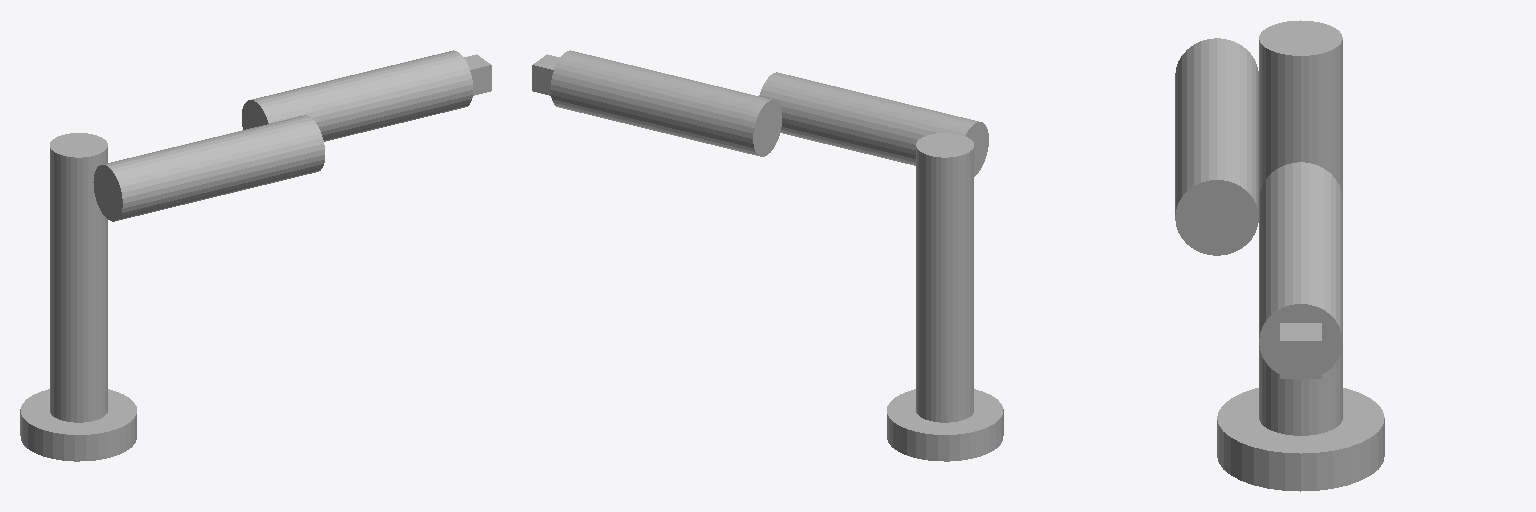
The robot description file, URDF, robot "example":
<?xml version="1.0"?>
<robot name="example">
  <link name="world"/>

  <link name="base_link">
    <visual>
      <geometry>
        <cylinder length="0.05" radius="0.1"/>
      </geometry>
      <material name="silver">
        <color rgba="0.75 0.75 0.75 1"/>
      </material>
      <origin rpy="0 0 0" xyz="0 0 0.025"/>
    </visual>
    <collision>
      <geometry>
        <cylinder length="0.05" radius="0.1"/>
      </geometry>
      <origin rpy="0 0 0" xyz="0 0 0.025"/>
    </collision>
    <inertial>
      <mass value="1.0"/>
      <origin rpy="0 0 0" xyz="0 0 0.025"/>
      <inertia ixx="0.0027" iyy="0.0027" izz="0.005" ixy="0" ixz="0" iyz="0"/>
    </inertial>
  </link>

  <joint name="fixed" type="fixed">
    <parent link="world"/>
    <child link="base_link"/>
    <origin rpy="0 0 0" xyz="0 0 0"/>
  </joint>

  <link name="torso">
    <visual>
      <geometry>
        <cylinder length="0.5" radius="0.05"/>
      </geometry>
      <material name="silver">
        <color rgba="0.75 0.75 0.75 1"/>
      </material>
      <origin rpy="0 0 0" xyz="0 0 0.25"/>
    </visual>
    <inertial>
      <mass value="1.0"/>
      <origin rpy="0 0 0" xyz="0 0 0.25"/>
      <inertia ixx="0.02146" iyy="0.02146" izz="0.00125" ixy="0" ixz="0" iyz="0"/>
    </inertial>
  </link>

  <joint name="hip" type="continuous">
    <axis xyz="0 0 1"/>
    <parent link="base_link"/>
    <child link="torso"/>
    <origin rpy="0 0 0" xyz="0.0 0.0 0.05"/>
  </joint>

  <transmission name="tran0">
    <type>transmission_interface/SimpleTransmission</type>
    <joint name="hip">
      <hardwareInterface>PositionJointInterface</hardwareInterface>
    </joint>
    <actuator name="motor0">
      <hardwareInterface>PositionJointInterface</hardwareInterface>
      <mechanicalReduction>1</mechanicalReduction>
    </actuator>
  </transmission>

  <link name="upper_arm">
    <visual>
      <geometry>
        <cylinder length="0.4" radius="0.05"/>
      </geometry>
      <material name="silver">
        <color rgba="0.75 0.75 0.75 1"/>
      </material>
      <origin rpy="0 0 0" xyz="0 0 0.2"/>
    </visual>
    <collision>
      <geometry>
        <cylinder length="0.4" radius="0.05"/>
      </geometry>
      <origin rpy="0 0 0" xyz="0 0 0.2"/>
    </collision>
    <inertial>
      <mass value="1.0"/>
      <origin rpy="0 0 0" xyz="0 0 0.2"/>
      <inertia ixx="0.01396" iyy="0.01396" izz="0.00125" ixy="0" ixz="0" iyz="0"/>
    </inertial>
  </link>

  <joint name="shoulder" type="continuous">
    <axis xyz="0 1 0"/>
    <parent link="torso"/>
    <child link="upper_arm"/>
    <origin rpy="0 1.5707 0" xyz="0.0 -0.1 0.45"/>
  </joint>

  <transmission name="tran1">
    <type>transmission_interface/SimpleTransmission</type>
    <joint name="shoulder">
      <hardwareInterface>PositionJointInterface</hardwareInterface>
    </joint>
    <actuator name="motor1">
      <hardwareInterface>PositionJointInterface</hardwareInterface>
      <mechanicalReduction>1</mechanicalReduction>
    </actuator>
  </transmission>

  <link name="lower_arm">
    <visual>
      <geometry>
        <cylinder length="0.4" radius="0.05"/>
      </geometry>
      <material name="silver">
        <color rgba="0.75 0.75 0.75 1"/>
      </material>
      <origin rpy="0 0 0" xyz="0 0 0.2"/>
    </visual>
    <collision>
      <geometry>
        <cylinder length="0.04" radius="0.05"/>
      </geometry>
      <origin rpy="0 0 0" xyz="0 0 0.2"/>
    </collision>
    <inertial>
      <mass value="1.0"/>
      <origin rpy="0 0 0" xyz="0 0 0.2"/>
      <inertia ixx="0.01396" iyy="0.01396" izz="0.00125" ixy="0" ixz="0" iyz="0"/>
    </inertial>
  </link>

  <joint name="elbow" type="continuous">
    <axis xyz="0 1 0"/>
    <parent link="upper_arm"/>
    <child link="lower_arm"/>
    <origin rpy="0 0 0" xyz="0.0 0.1 0.35"/>
  </joint>

  <transmission name="tran2">
    <type>transmission_interface/SimpleTransmission</type>
    <joint name="elbow">
      <hardwareInterface>PositionJointInterface</hardwareInterface>
    </joint>
    <actuator name="motor2">
      <hardwareInterface>PositionJointInterface</hardwareInterface>
      <mechanicalReduction>1</mechanicalReduction>
    </actuator>
  </transmission>

  <link name="hand">
    <visual>
      <geometry>
        <box size="0.05 0.05 0.05"/>
      </geometry>
      <material name="silver">
        <color rgba="0.75 0.75 0.75 1"/>
      </material>
    </visual>
    <collision>
      <geometry>
        <box size="0.05 0.05 0.05"/>
      </geometry>
    </collision>
    <inertial>
      <mass value="1.0"/>
      <origin rpy="0 0 0" xyz="0 0 0.2"/>
      <inertia ixx="0.00042" iyy="0.00042" izz="0.00042" ixy="0" ixz="0" iyz="0"/>
    </inertial>
  </link>

  <joint name="wrist" type="continuous">
    <axis xyz="0 1 0"/>
    <parent link="lower_arm"/>
    <child link="hand"/>
    <origin rpy="0 0 0" xyz="0.0 0.0 0.425"/>
  </joint>

  <transmission name="tran3">
    <type>transmission_interface/SimpleTransmission</type>
    <joint name="wrist">
      <hardwareInterface>PositionJointInterface</hardwareInterface>
    </joint>
    <actuator name="motor3">
      <hardwareInterface>PositionJointInterface</hardwareInterface>
      <mechanicalReduction>1</mechanicalReduction>
    </actuator>
  </transmission>

  <gazebo>
    <plugin name="control" filename='libgazebo_ros_control.so'/>
  </gazebo>

  <gazebo>
    <plugin name="joint_state_publisher" filename="libgazebo_ros_joint_state_publisher.so">
      <jointName>hip, shoulder, elbow, wrist</jointName>
    </plugin>
  </gazebo>

</robot>

--- Facts derived from the render (not from the file) ---
The picture shows the robot from 3 angles, left to right: view 1: azimuth 30°, elevation 25°; view 2: azimuth 150°, elevation 25°; view 3: azimuth 270°, elevation 25°; orthographic projection.
Model example with 6 links and 5 joints (4 continuous, 1 fixed), rooted at world, posed all joints at 0.
Visible links, largest first — view 1: torso, upper_arm, lower_arm, base_link, hand; view 2: torso, lower_arm, upper_arm, base_link, hand; view 3: torso, upper_arm, lower_arm, base_link, hand.
Boxes of the visible links, x1,y1,x2,y2 form: torso: (50,133,107,422); upper_arm: (93,115,324,221); lower_arm: (242,50,472,141); base_link: (20,389,136,461); hand: (464,54,491,95); torso: (916,133,973,422); lower_arm: (551,50,781,156); upper_arm: (759,72,988,176); base_link: (887,389,1003,461); hand: (532,54,559,95); torso: (1259,20,1342,435); upper_arm: (1175,38,1258,255); lower_arm: (1259,162,1342,379); base_link: (1217,388,1384,491); hand: (1280,323,1321,378).
Bounding box of the posed robot: 0.9 × 0.25 × 0.5501 m (x, y, z).
Geometry: primitives only (box / cylinder / sphere), no mesh files.